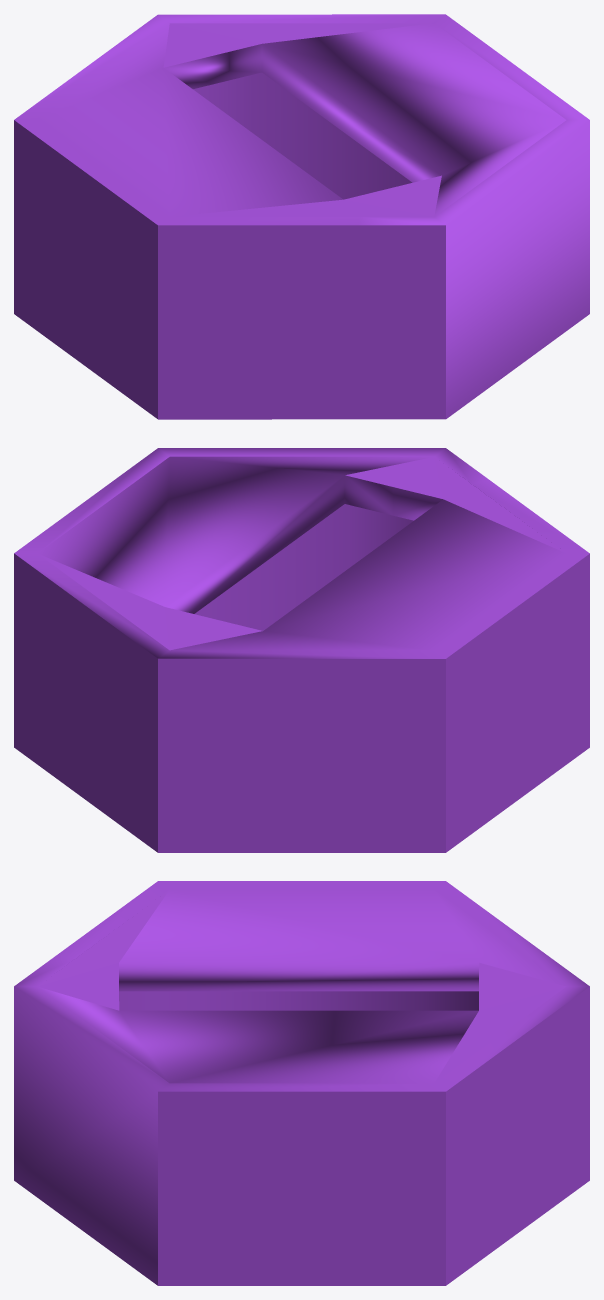
Rendered from ResourceTileStage3_1.fbx.
3 renders of one model, top to bottom at view 1: azimuth 30°, elevation 25°; view 2: azimuth 150°, elevation 25°; view 3: azimuth 270°, elevation 25°, orthographic.
Visible parts, largest first — view 1: ResourceTileStage3_1; view 2: ResourceTileStage3_1; view 3: ResourceTileStage3_1.
Boxes of the visible parts, x1,y1,x2,y2 form: ResourceTileStage3_1: [14, 14, 589, 419]; ResourceTileStage3_1: [14, 448, 589, 852]; ResourceTileStage3_1: [14, 881, 589, 1285].
Bounding box in the file's own units: 173 × 74.43 × 200.
